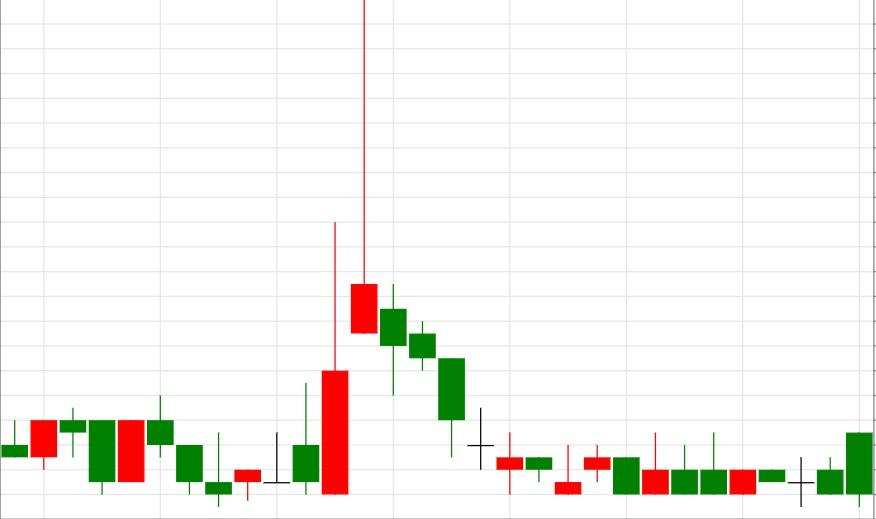shooting_star_fall: (205, 0, 379, 507)
